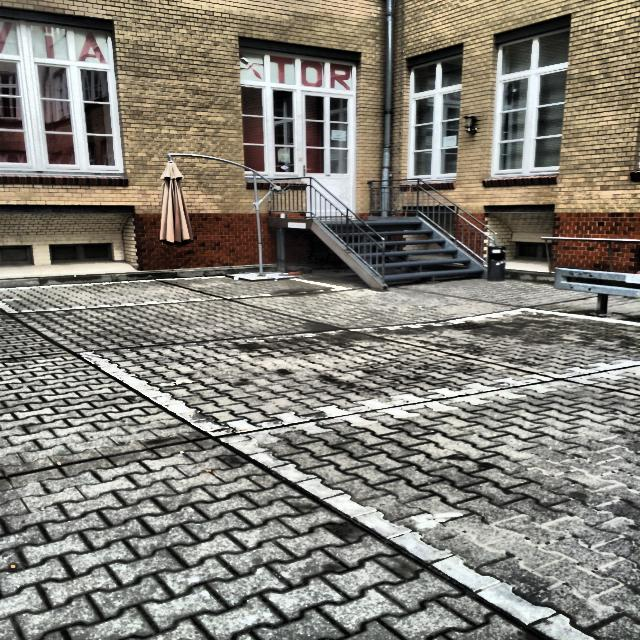escada: (265, 211, 491, 290)
